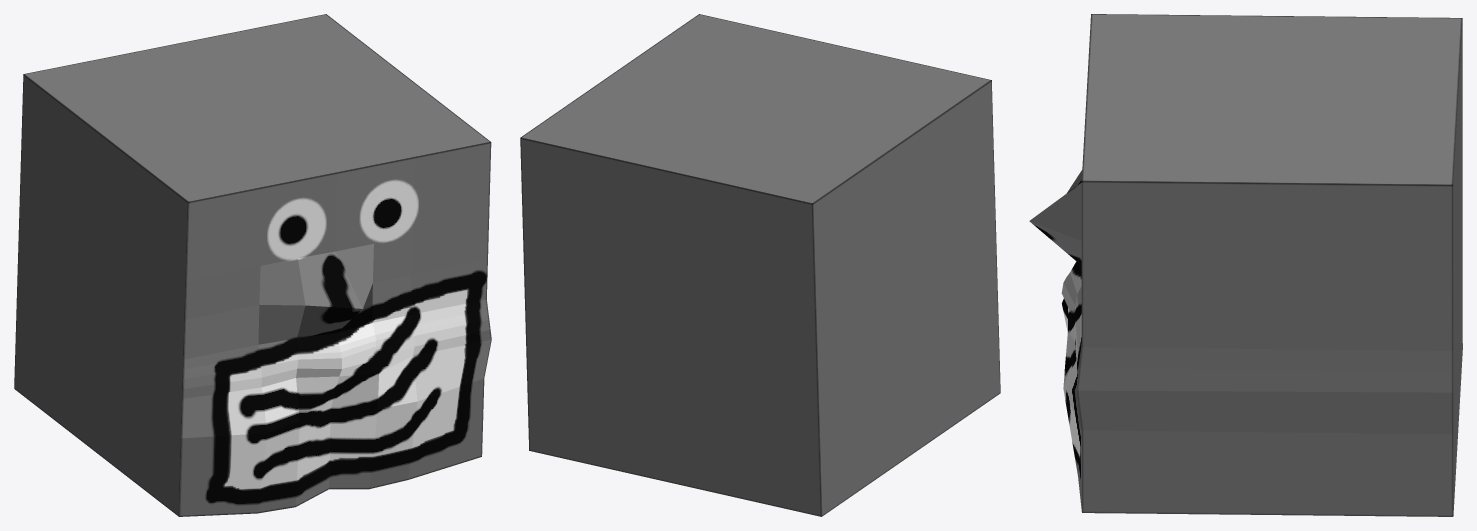
Rendered from HEAD3.obj.
The picture shows the model from 3 angles, left to right: view 1: azimuth 30°, elevation 25°; view 2: azimuth 150°, elevation 25°; view 3: azimuth 270°, elevation 25°; orthographic projection. The views are drawn at different scales.
Parts seen in each view (by area): view 1: Cube_Cube.001; view 2: Cube_Cube.001; view 3: Cube_Cube.001.
Boxes of the visible parts, left/top/right/bottom form: Cube_Cube.001: left=14, top=14, right=491, bottom=516; Cube_Cube.001: left=520, top=14, right=1000, bottom=516; Cube_Cube.001: left=1029, top=14, right=1462, bottom=516.
Size of the model in its own units: 1.05 by 1.04 by 1.17.
